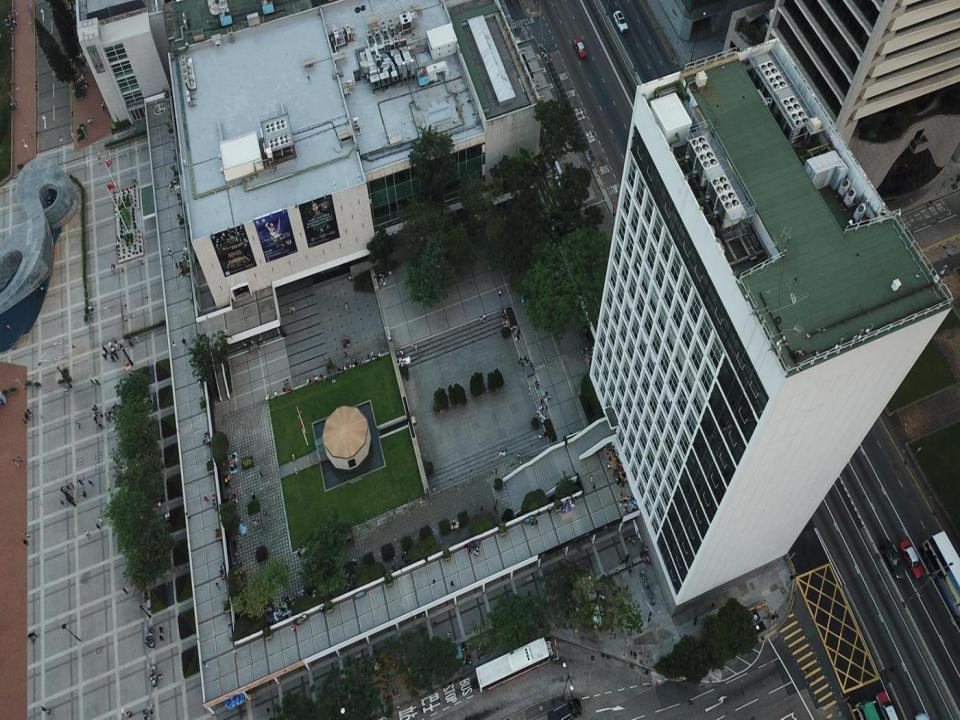bus: (475, 638, 552, 693), (925, 529, 960, 623)
car: (880, 540, 906, 581), (899, 541, 924, 579), (876, 691, 900, 719), (613, 10, 627, 33), (573, 38, 588, 58)
van: (546, 698, 583, 719)
